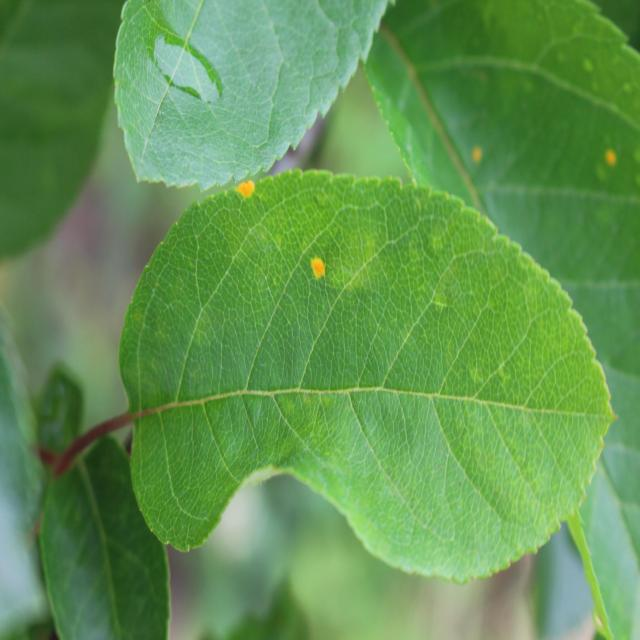Rust: (308, 236, 331, 295), (239, 159, 255, 207), (468, 139, 488, 167)
